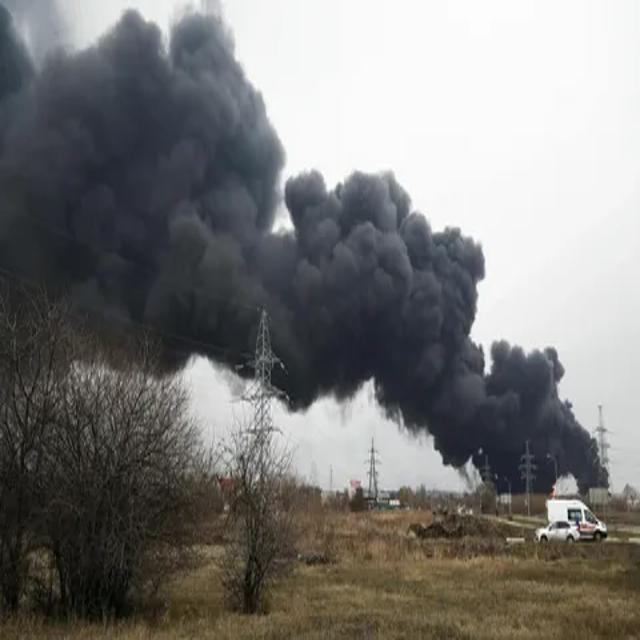Smoke: (2, 1, 610, 489)
